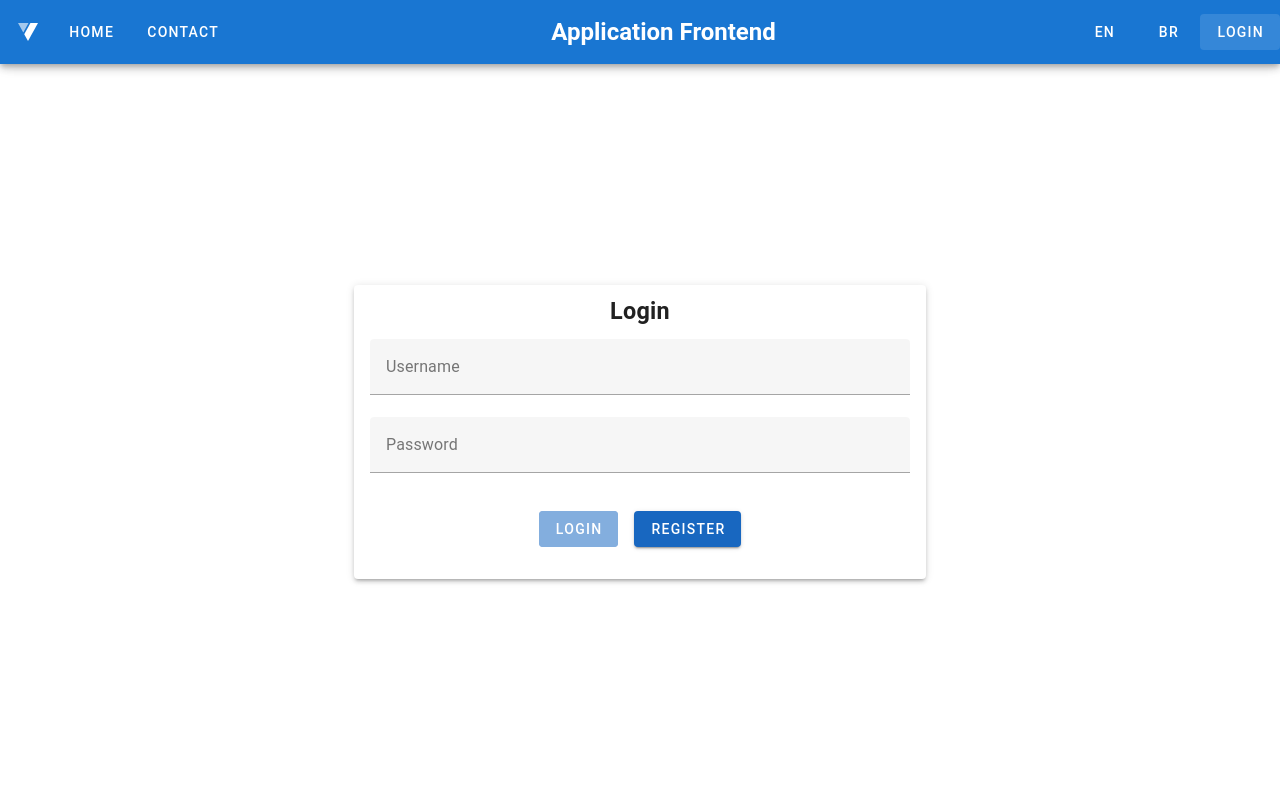
Test: Login Page › 3 - should navigate to the register page when the register button is clicked
Click the button with test id "register-button". click: {"x": 688, "y": 529}
box: [634, 511, 741, 547]
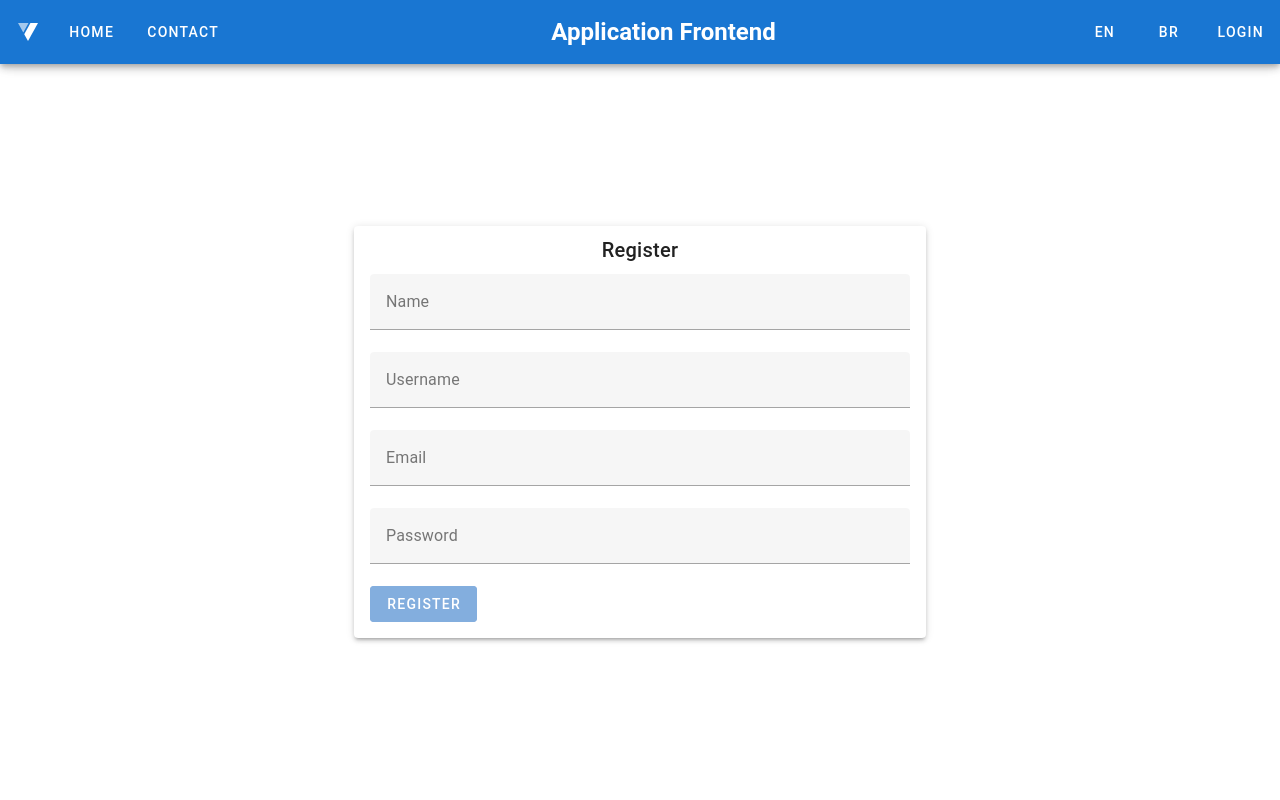
expect the 1st text "Register" is shown: met, box [602, 238, 678, 262]
